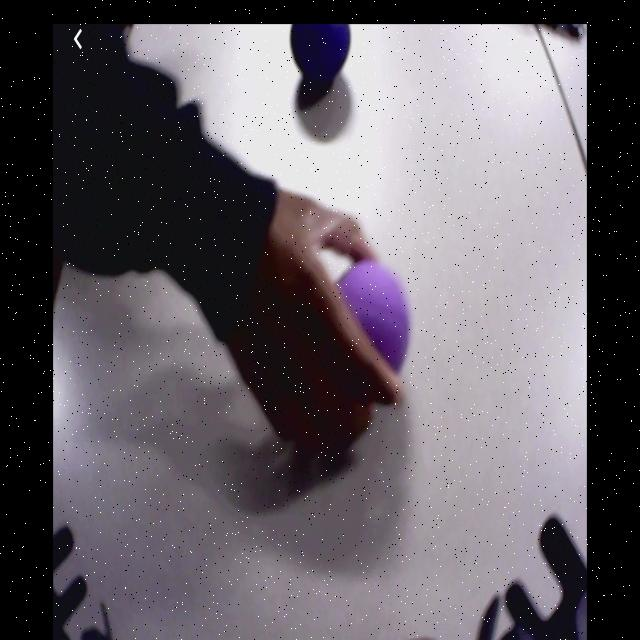ball: (335, 260, 408, 366), (293, 24, 352, 71)
